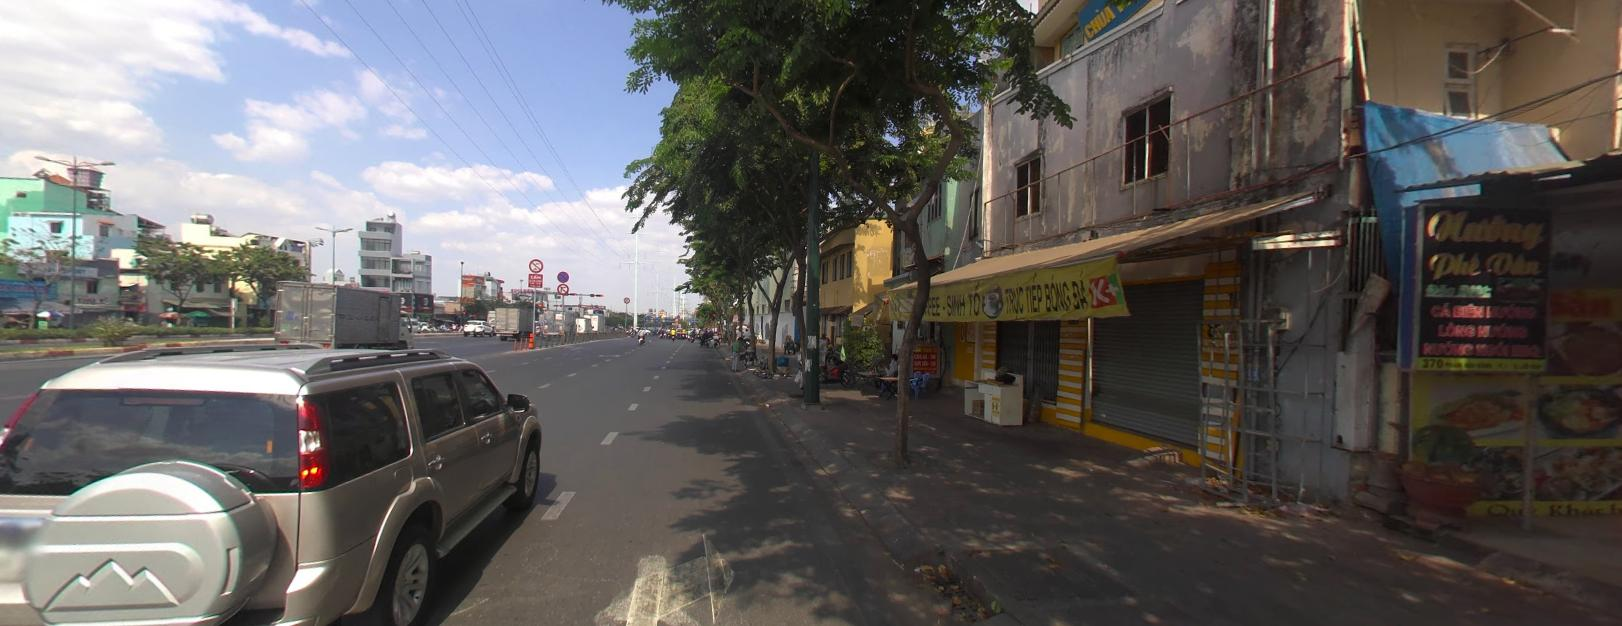Cam con lai: (528, 257, 542, 270), (623, 295, 629, 302)
Cam dung va do: (557, 269, 568, 280)
Cam re: (555, 282, 568, 293)
